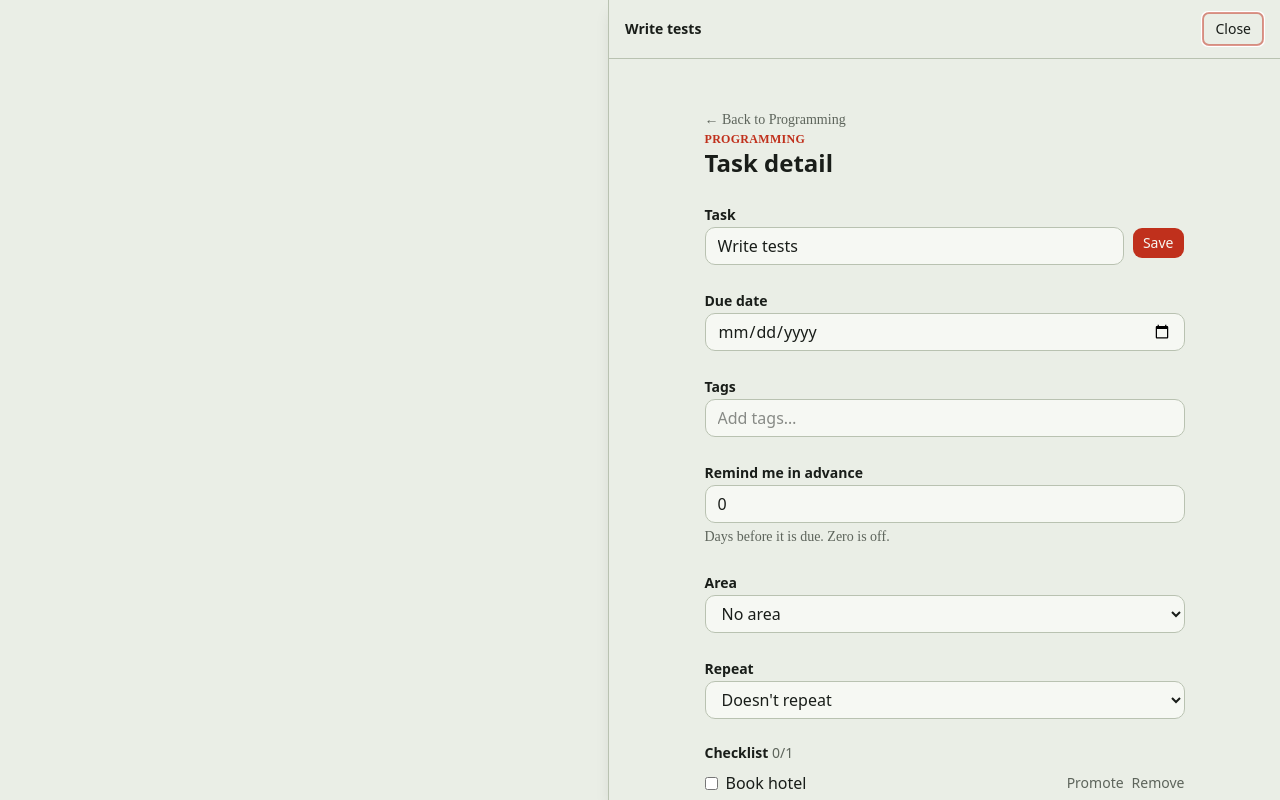
Test: TaskDetailRoute › promotes a checklist step to a task of its own
Expected: the text "Book hotel" is shown, [726,772,806,794]
Step 1. Click the button with aria-label "Promote Book hotel" → (1095, 783), box [1067,773,1124,793]
(page scrolled)
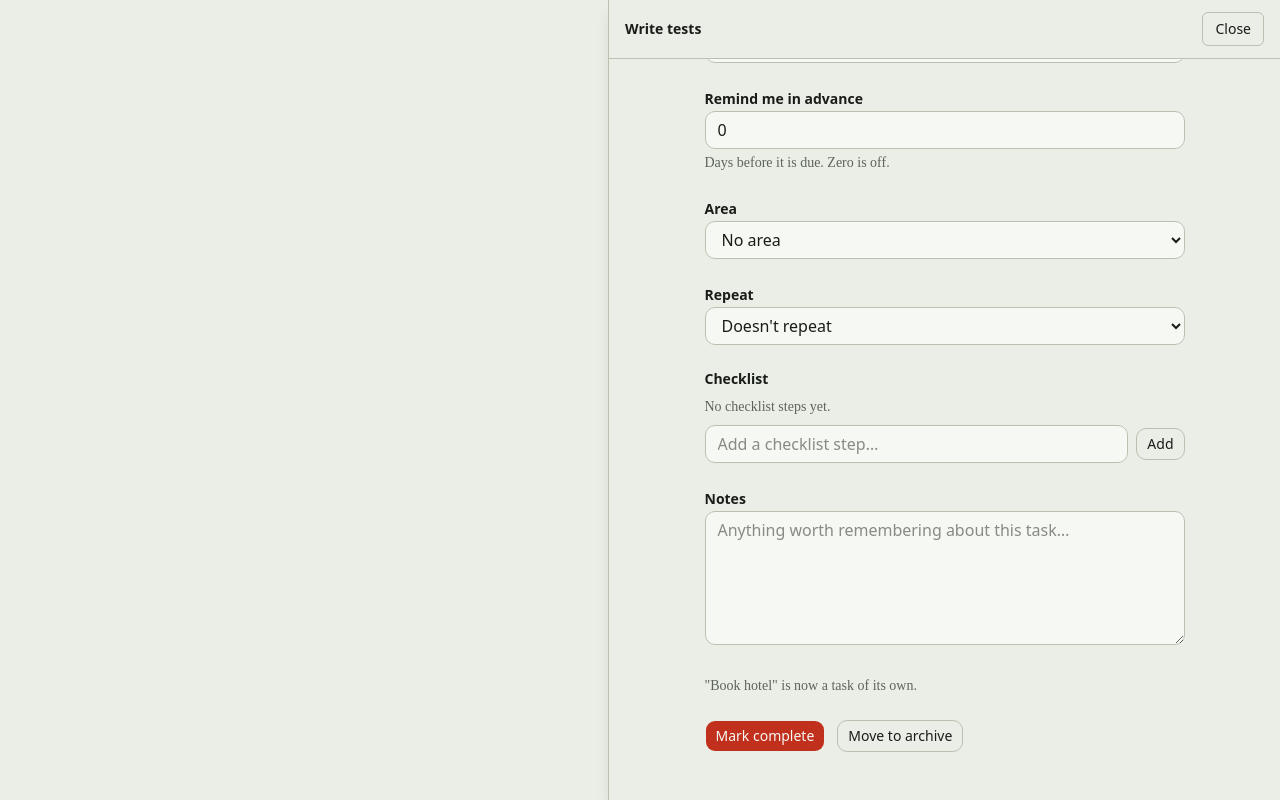
Expected: the text "\"Book hotel\" is now a task of its own." is shown, [704,678,917,693]
